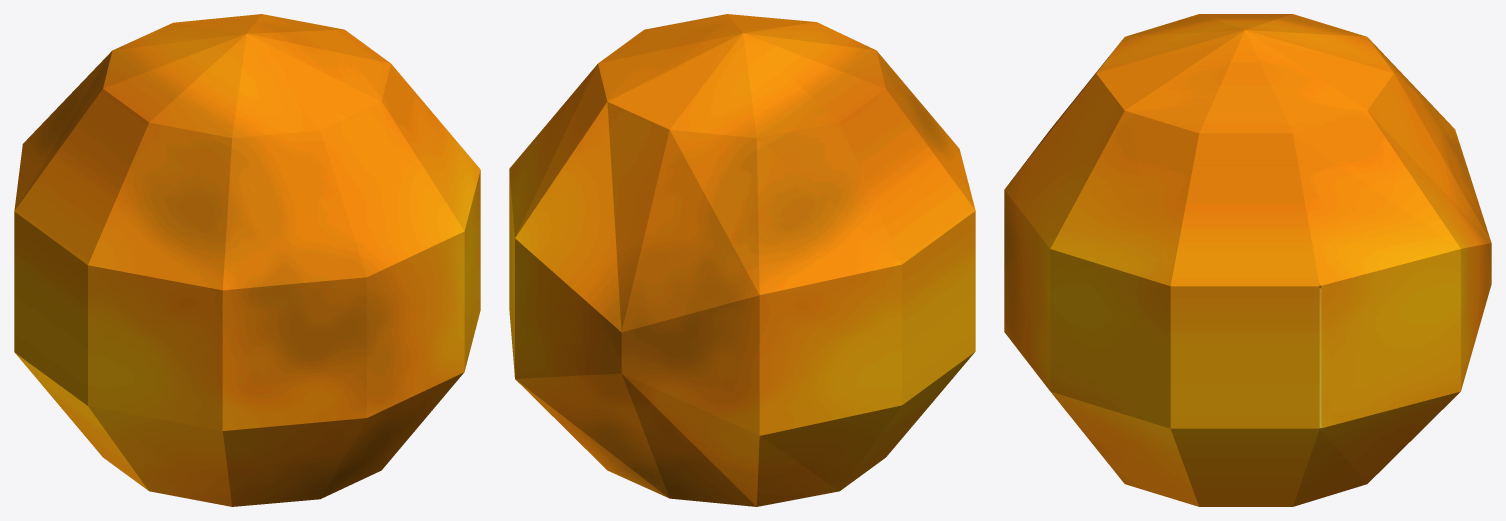
3 views of the same model, side by side, from view 1: azimuth 30°, elevation 25°; view 2: azimuth 150°, elevation 25°; view 3: azimuth 270°, elevation 25° (orthographic).
Visible parts, largest first — view 1: Fb2; view 2: Fb2; view 3: Fb2.
Part boxes in pixels (<box>): Fb2: <box>14,14,480,506</box>; Fb2: <box>509,14,975,506</box>; Fb2: <box>1004,14,1491,506</box>.
Bounding box in the file's own units: 3.01 × 3.33 × 3.19.
Materials: 1 (1 with a texture image).
